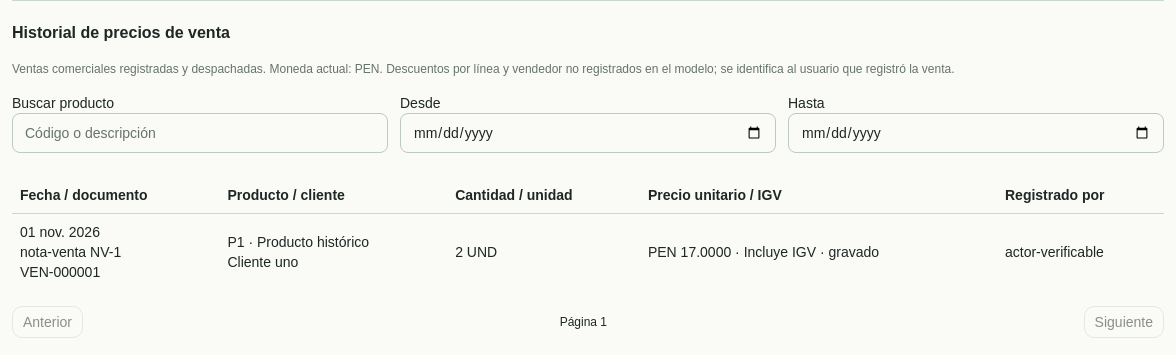
it: historial de precios de venta › rechaza fechas invertidas y conserva información tributaria explícita
Expected: the text "PEN 17.0000 · Incluye IGV · gravado" is shown, [640,214,997,290]
Expected: the text "actor-verificable" is shown, [997,214,1164,290]
Step 1. Type "2026-11-02" into the date field labelled "Desde" → (588, 133), box [400,113,776,153]
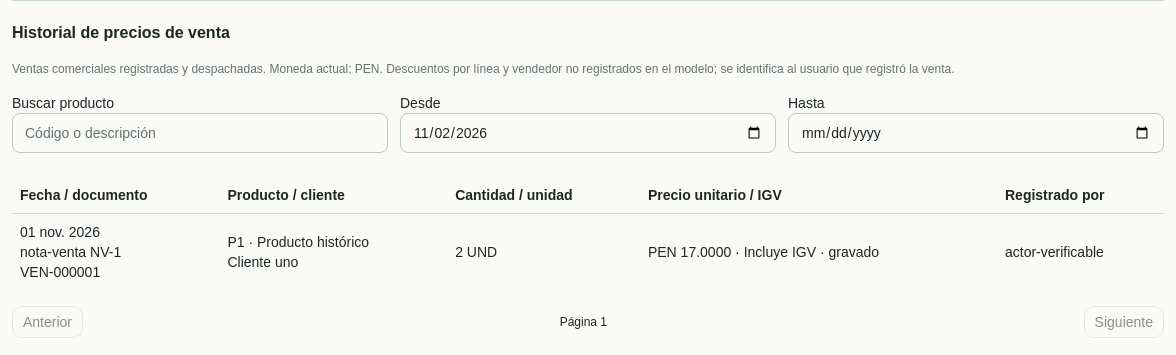
Step 2. Type "2026-11-01" into the date field labelled "Hasta" → (976, 133), box [788,113,1164,153]
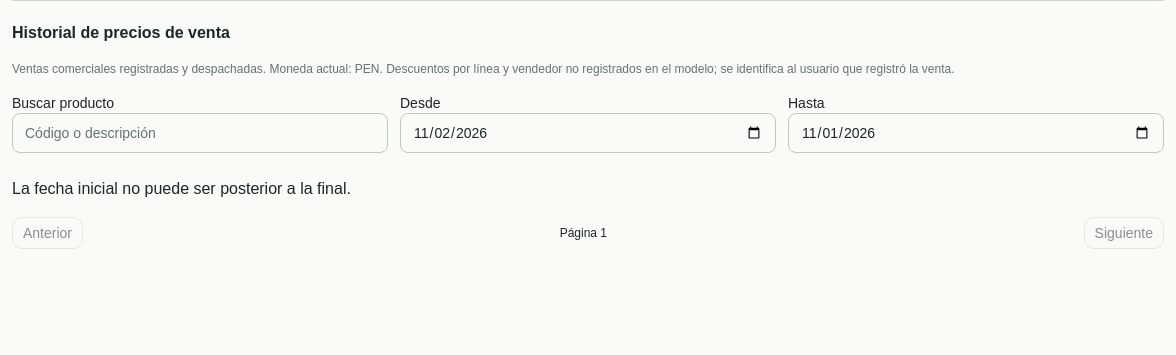
Now the message shows "La fecha inicial", box [12,180,351,197]
